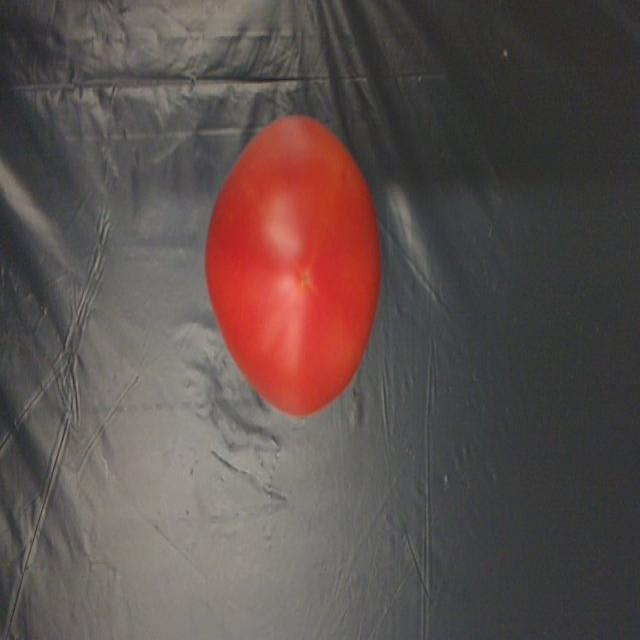kirmizi: (194, 101, 393, 438)
